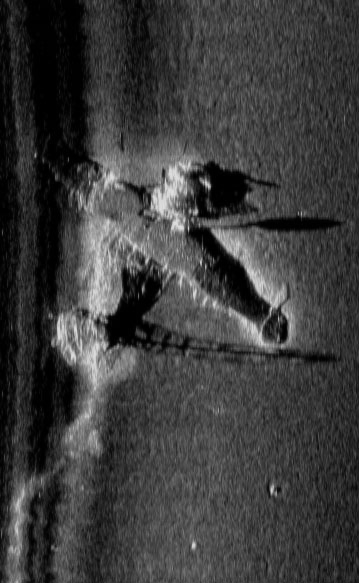plane: (41, 139, 295, 348)
